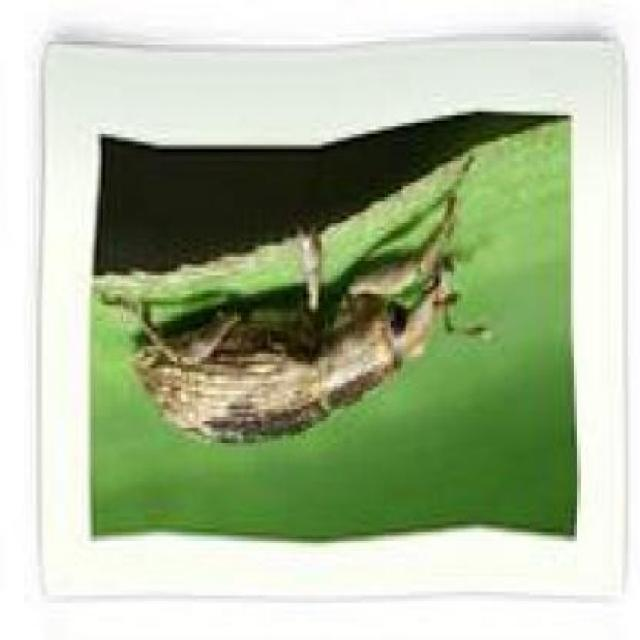rice-bug: (140, 198, 465, 450)
